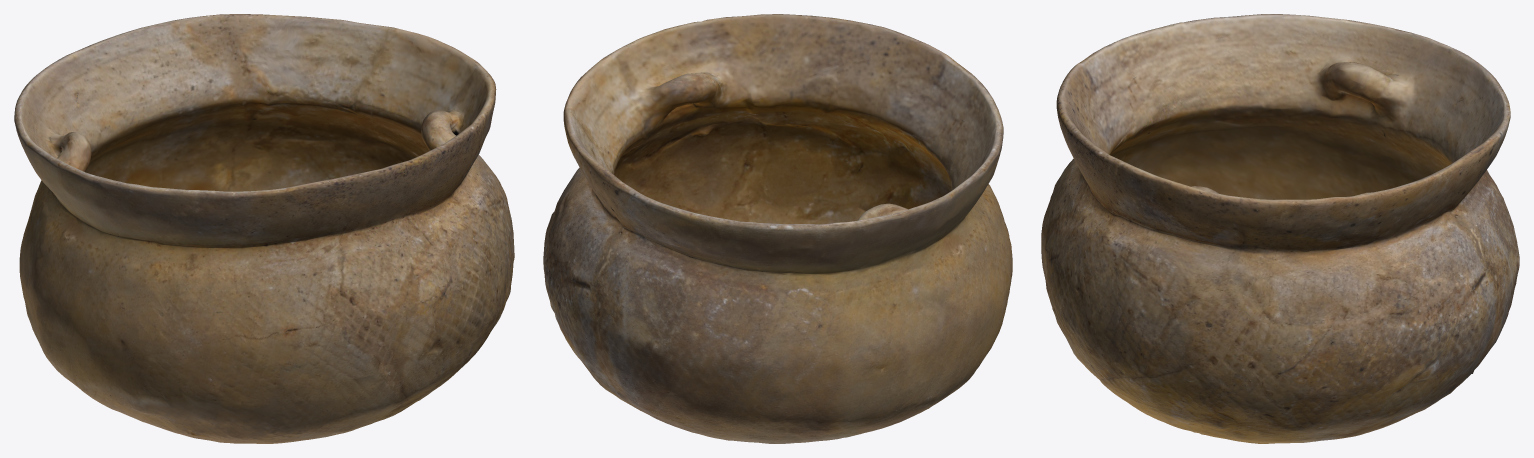
The model's file is 春秋时代方格纹双耳陶罐.glb.
3 views of the same model, side by side, from view 1: azimuth 30°, elevation 25°; view 2: azimuth 150°, elevation 25°; view 3: azimuth 270°, elevation 25° (orthographic). The views are drawn at different scales.
Visible parts, largest first — view 1: defaultobject; view 2: defaultobject; view 3: defaultobject.
Part boxes in pixels (x1=…): defaultobject: x1=14, y1=14, x2=514, y2=443; defaultobject: x1=543, y1=14, x2=1012, y2=443; defaultobject: x1=1041, y1=14, x2=1519, y2=443.
Bounding box in the file's own units: 757 × 538 × 746.
1 material, 1 textured.
